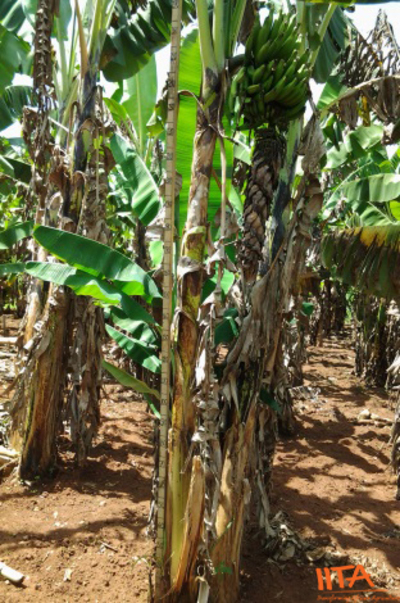bananaHand: (232, 9, 321, 128)
